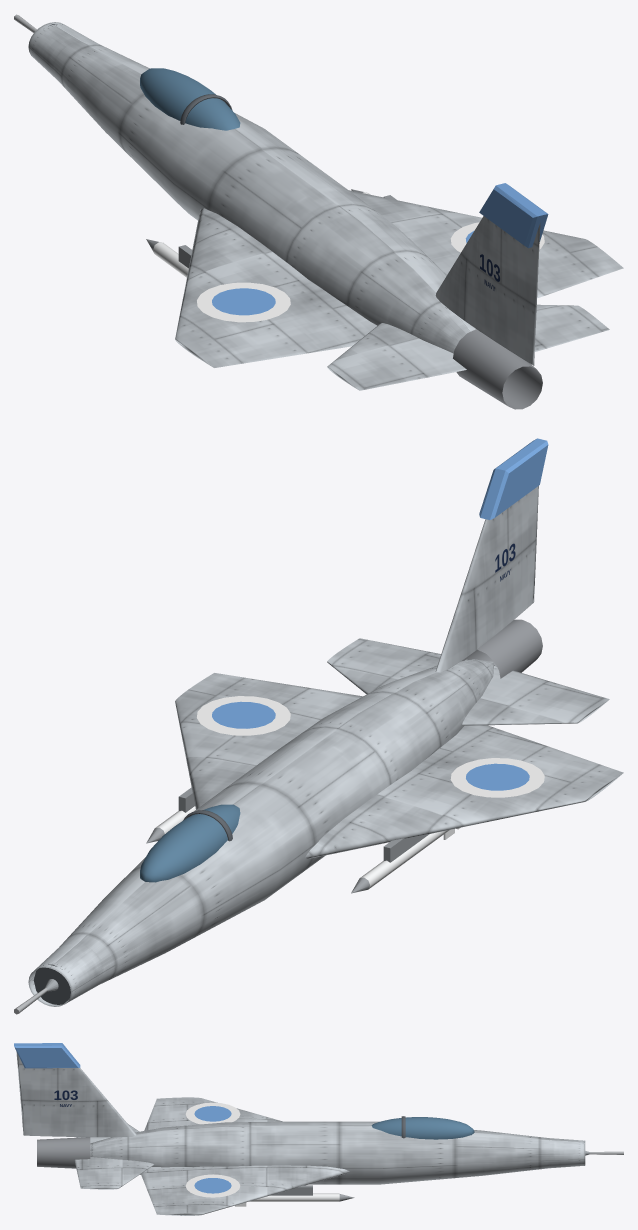
The picture shows the model from 3 angles, top to bottom: view 1: azimuth 30°, elevation 25°; view 2: azimuth 150°, elevation 25°; view 3: azimuth 270°, elevation 25°; orthographic projection. The views are drawn at different scales.
Visible parts, largest first — view 1: detail (×5), part (×6); view 2: detail (×5), part (×8); view 3: detail (×4), part (×7).
Boxes of the visible parts, x1,y1,x2,y2 form: detail (×5): (28,22,623,390); part (×6): (140,68,548,409); detail (×5): (28,486,623,1006); part (×8): (33,438,548,1004); detail (×4): (16,1051,585,1215); part (×7): (14,1043,474,1206).
Bounding box in the file's own units: 7.2 × 3.95 × 16.01.
Materials: 14 (3 with a texture image).
